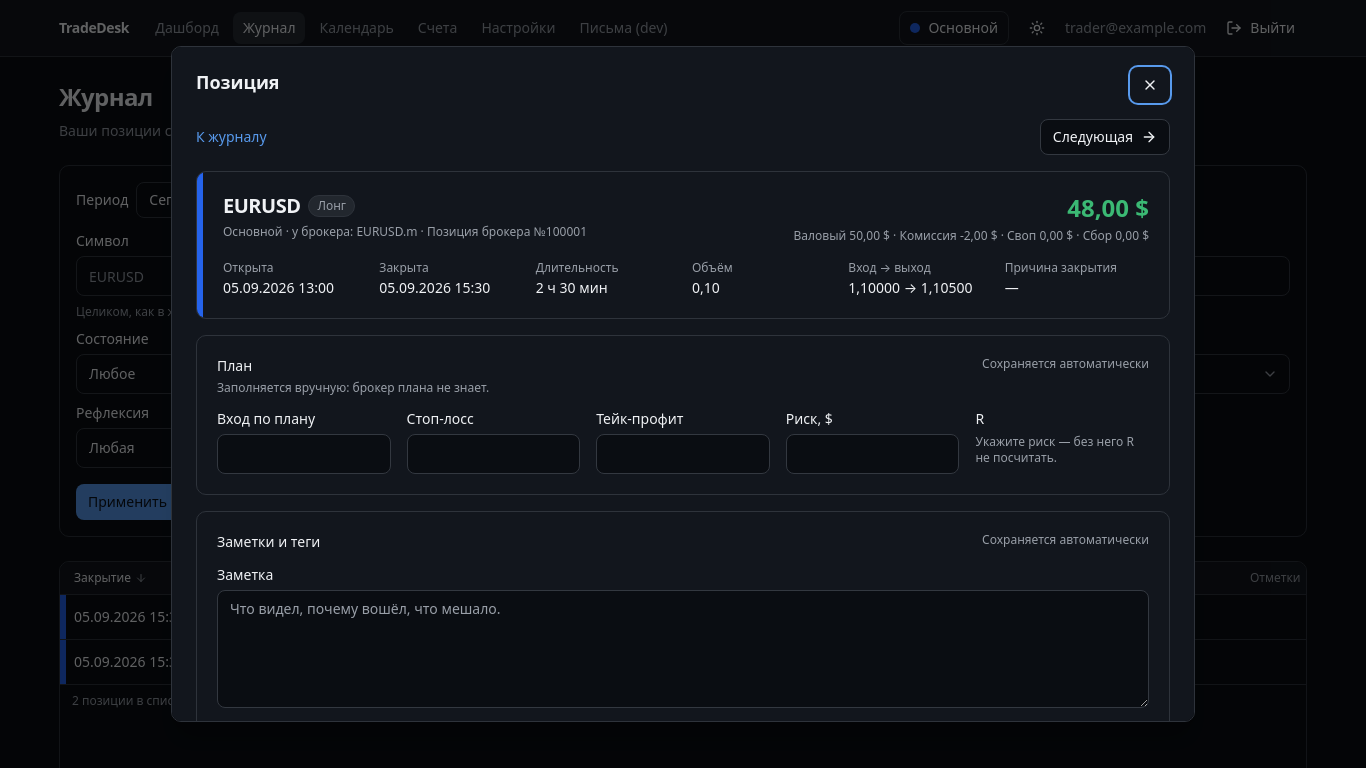
карточка позиции: соседи › переход стрелкой дописывает набранное в ту позицию, где его набрали
Expected: the heading "EURUSD" is shown, [223, 192, 300, 220]
// Сосед должен побывать в кэше: на незагруженном соседе всё и так правильно.
Click the link "Следующая".
click(1105, 137)  # box [1040, 119, 1170, 155]
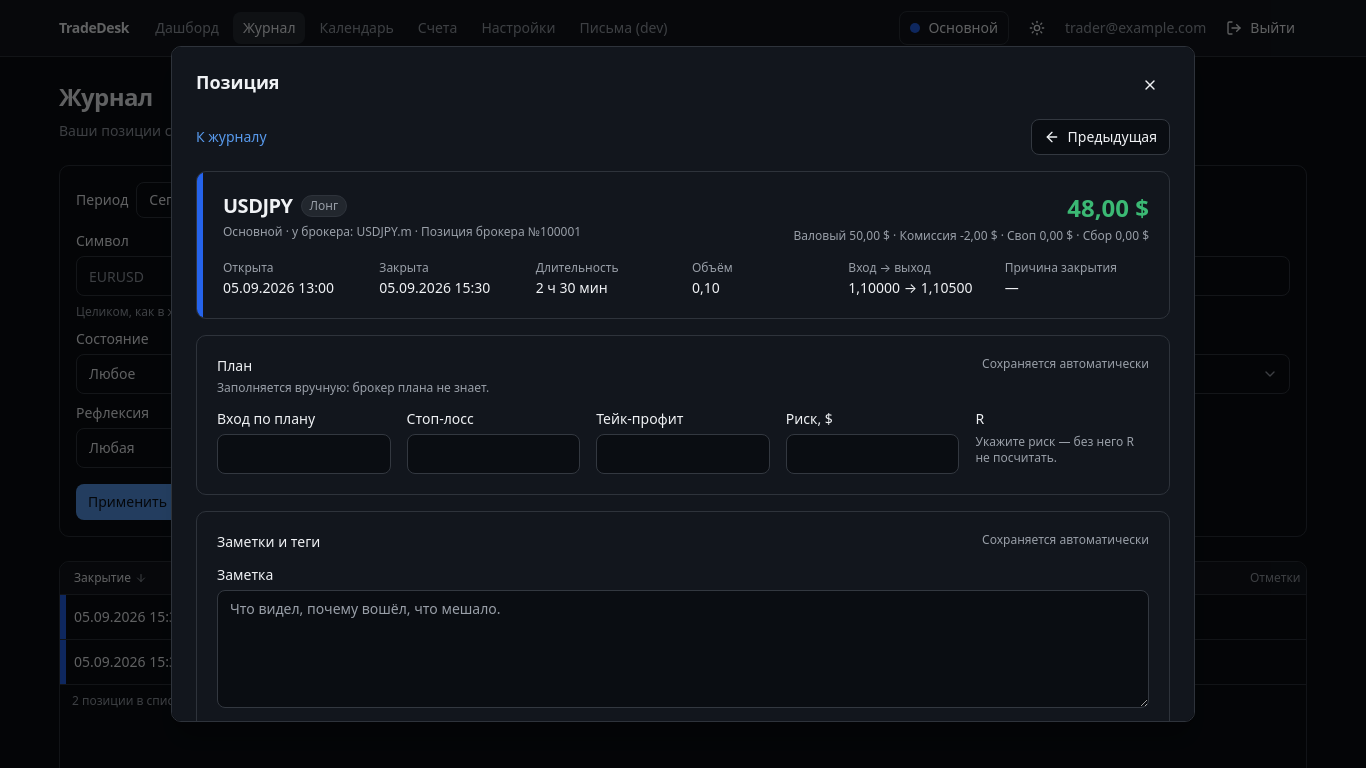
Result: the heading "USDJPY" is shown at [223, 192, 293, 220]
Click the link "Предыдущая".
click(1100, 137)  # box [1031, 119, 1170, 155]
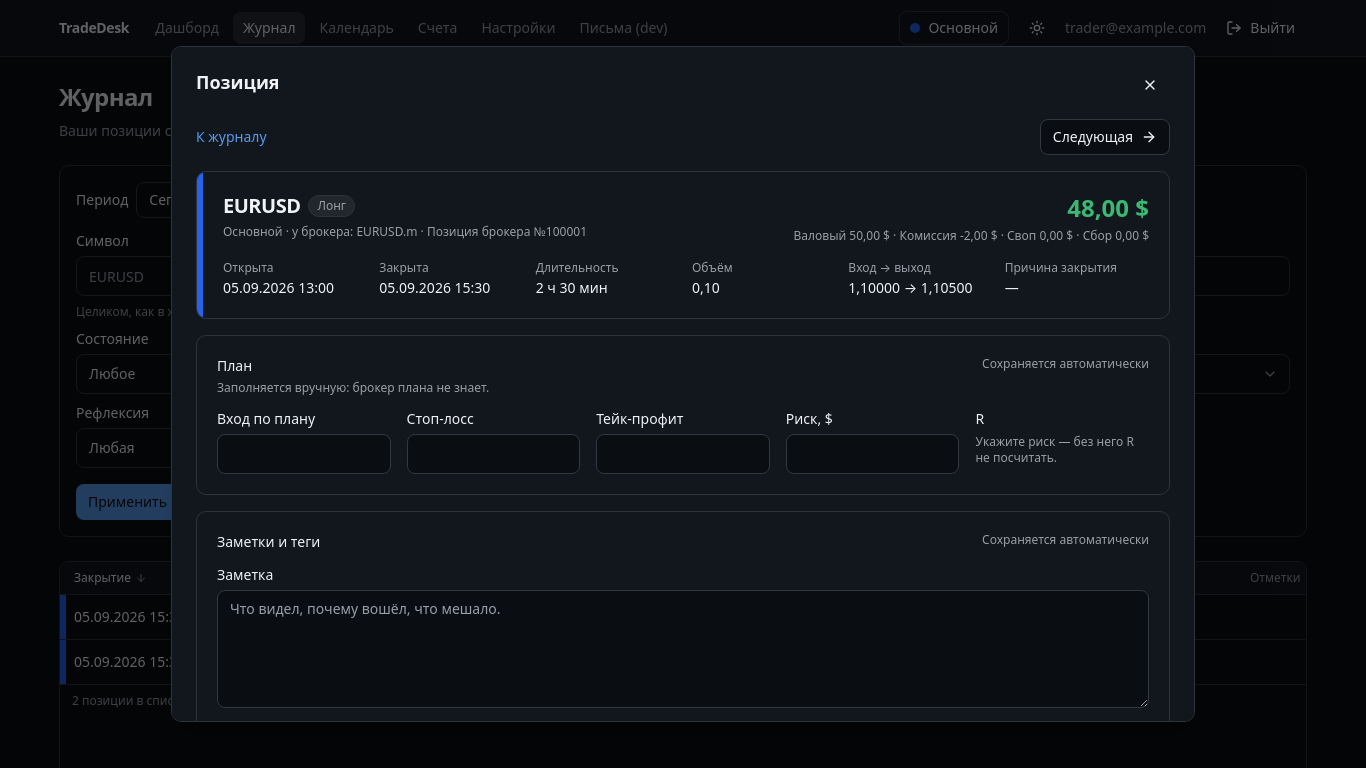
Result: the heading "EURUSD" is shown at [223, 192, 300, 220]
Type "мысль про EURUSD" into the text box labelled "Заметка".
click(683, 649); type("мысль про EURUSD")  # box [217, 590, 1149, 708]
(page scrolled)
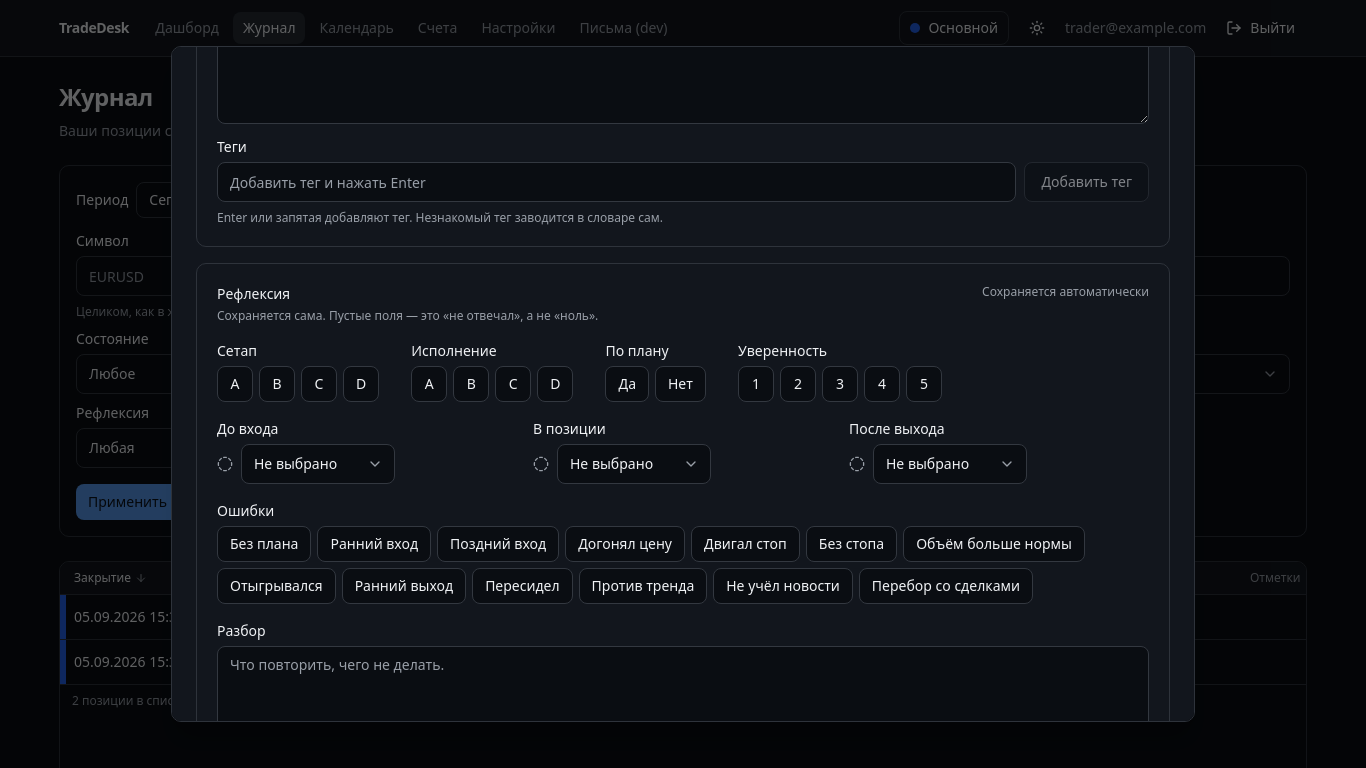
Click the button "B" below "Сетап".
click(277, 384)  # box [259, 366, 295, 402]
(page scrolled)
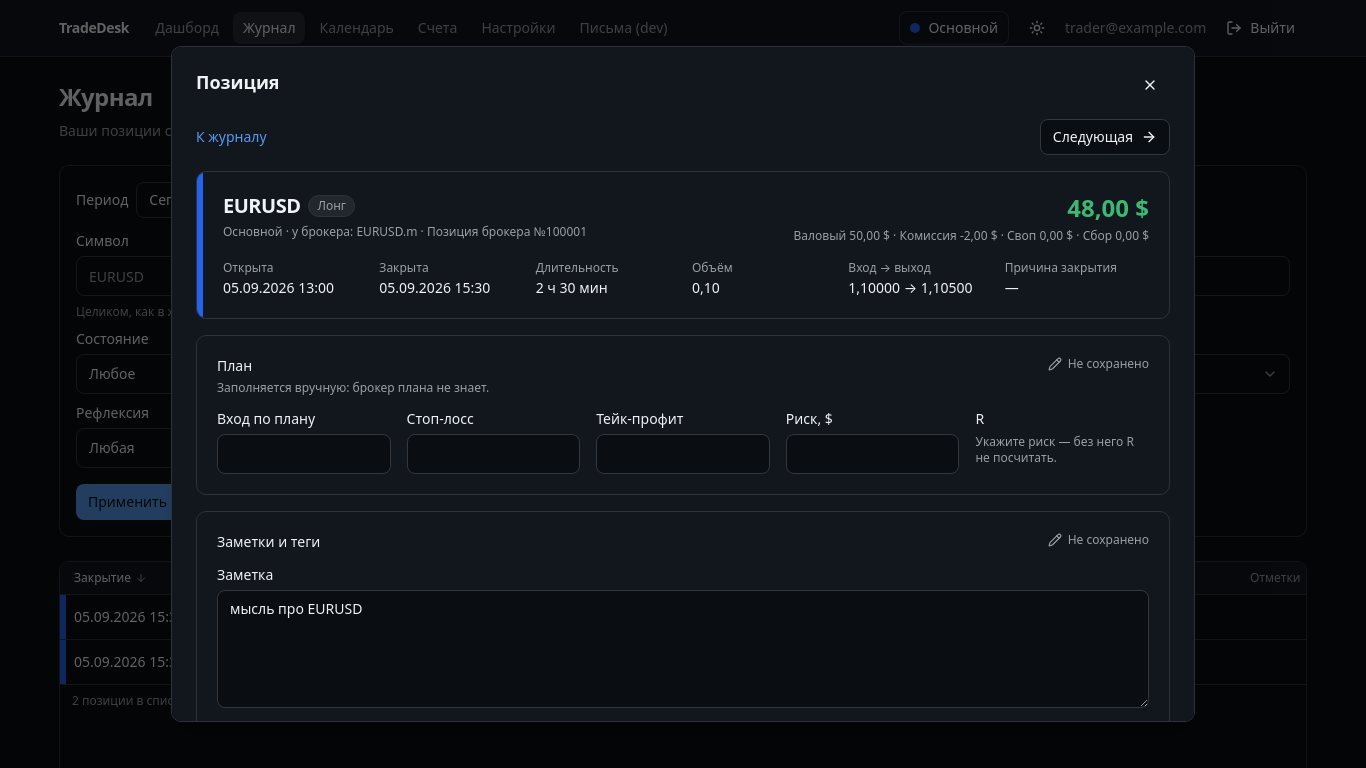
Click the link "Следующая".
click(1105, 137)  # box [1040, 119, 1170, 155]
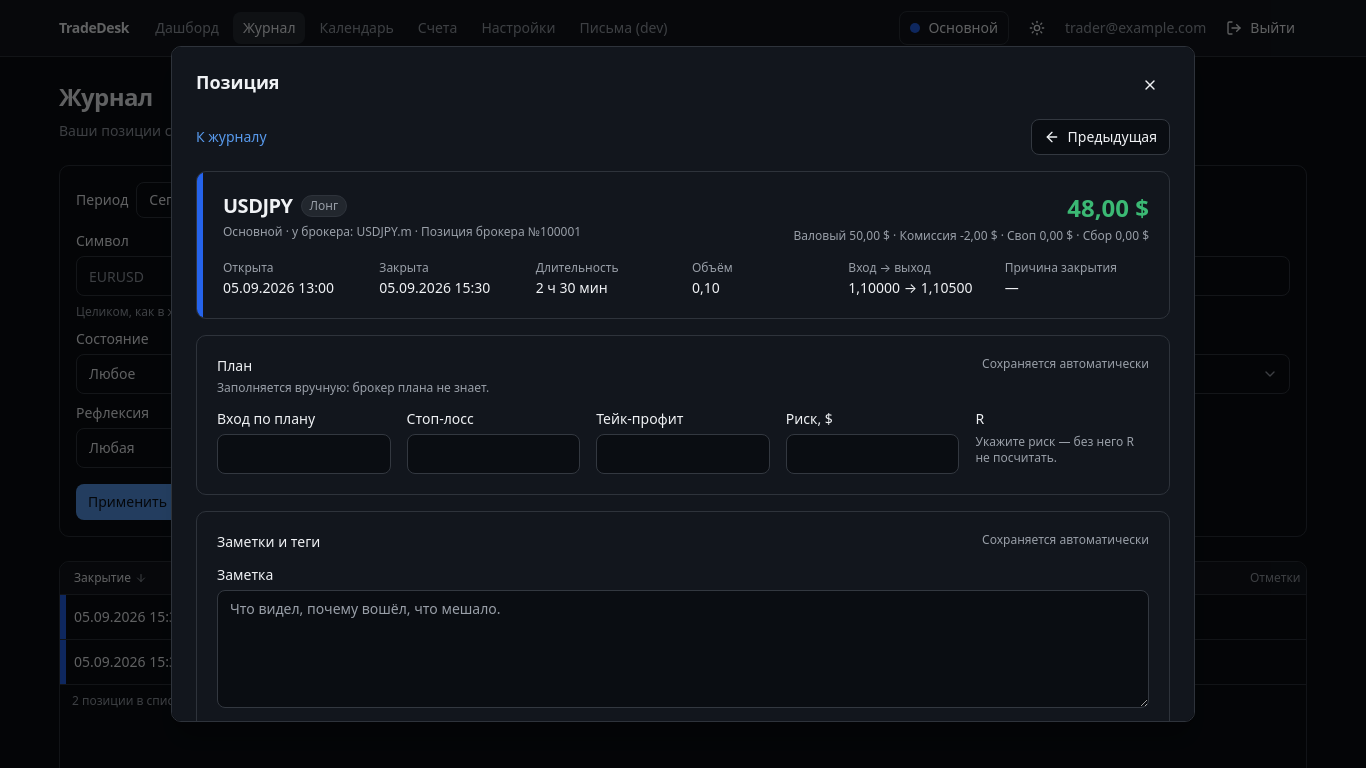
Result: the heading "USDJPY" is shown at [223, 192, 293, 220]
Result: the text box labelled "Заметка" is empty at [217, 590, 1149, 708]
